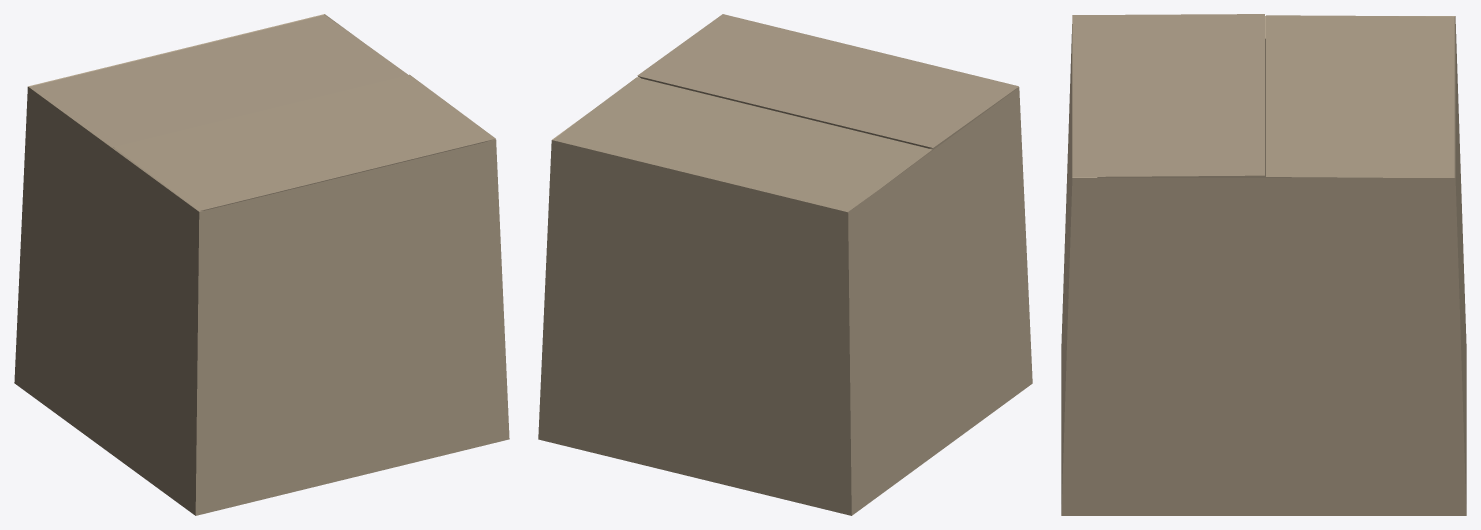
The model's file is GEO_Delivery_Box.fbx.
3 views of the same model, side by side, from view 1: azimuth 30°, elevation 25°; view 2: azimuth 150°, elevation 25°; view 3: azimuth 270°, elevation 25° (orthographic). The views are drawn at different scales.
Visible parts, largest first — view 1: Box_Base, Box_Flap_L, Box_Flap_R; view 2: Box_Base, Box_Flap_L, Box_Flap_R; view 3: Box_Base, Box_Flap_L, Box_Flap_R.
Part boxes in pixels (x1,y1,x2,y2): Box_Base: (14,14,509,515); Box_Flap_L: (114,74,495,210); Box_Flap_R: (29,15,407,147); Box_Base: (538,76,1032,515); Box_Flap_L: (637,14,1018,148); Box_Flap_R: (553,77,932,212); Box_Base: (1061,16,1466,515); Box_Flap_L: (1072,14,1264,176); Box_Flap_R: (1266,15,1454,177).
Bounding box in the file's own units: 50.73 × 46.36 × 50.73.
